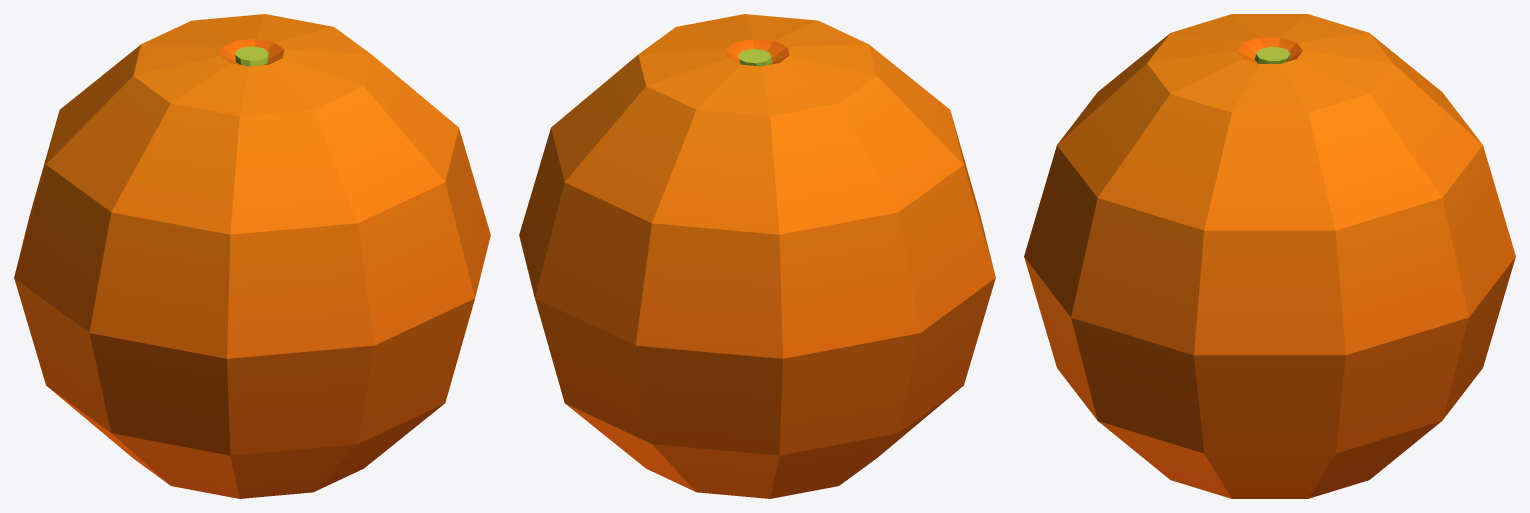
File: Orange.fbx
3 renders of one model, left to right at view 1: azimuth 30°, elevation 25°; view 2: azimuth 150°, elevation 25°; view 3: azimuth 270°, elevation 25°, orthographic.
Parts seen in each view (by area): view 1: Orange; view 2: Orange; view 3: Orange.
Part boxes in pixels (x1=…): Orange: x1=14, y1=14, x2=490, y2=498; Orange: x1=519, y1=14, x2=995, y2=498; Orange: x1=1024, y1=14, x2=1515, y2=498.
Size of the model in its own units: 11.49 by 11.62 by 12.08.
